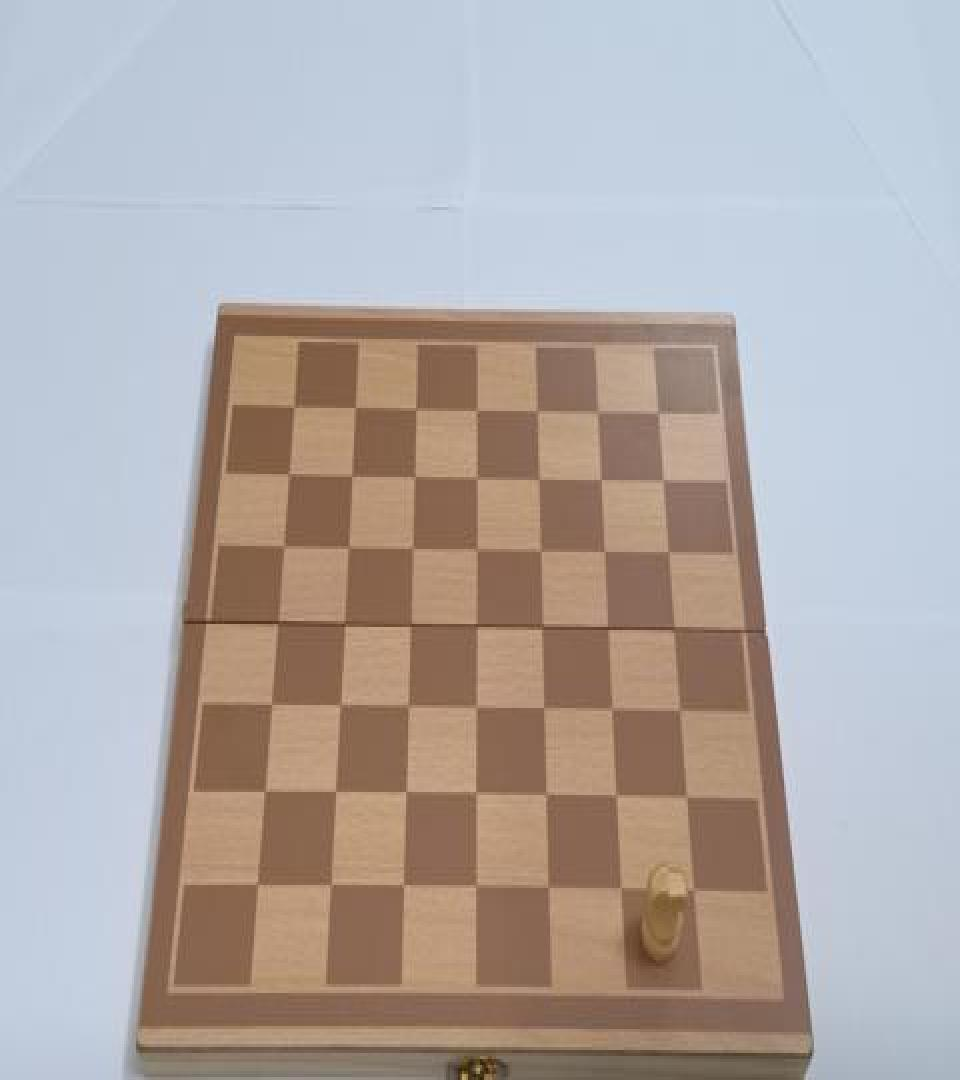xcorner: (651, 397, 671, 428), (656, 466, 676, 497), (282, 386, 302, 416), (277, 454, 297, 484), (271, 528, 291, 558), (266, 606, 286, 636), (253, 777, 273, 807), (245, 870, 265, 900), (344, 387, 364, 417), (341, 456, 361, 486), (329, 690, 349, 720), (406, 388, 426, 418), (404, 458, 424, 488), (402, 531, 422, 561), (400, 609, 420, 639), (398, 692, 418, 722), (396, 780, 416, 810), (394, 873, 414, 903), (467, 392, 487, 422), (467, 460, 487, 490), (467, 534, 487, 564), (468, 693, 488, 723), (468, 782, 488, 812), (468, 874, 488, 904), (529, 393, 549, 423), (530, 462, 550, 492), (534, 612, 554, 642), (536, 694, 556, 724), (539, 783, 559, 813), (541, 876, 561, 906), (590, 394, 610, 424), (593, 464, 613, 494), (597, 537, 617, 567), (601, 615, 621, 645), (605, 696, 625, 726), (661, 538, 681, 568), (674, 699, 694, 729), (680, 786, 700, 816), (687, 879, 707, 909), (259, 689, 279, 718), (337, 530, 357, 559), (333, 608, 353, 637), (324, 779, 344, 808), (320, 872, 340, 901), (468, 611, 488, 640), (532, 536, 552, 565), (610, 785, 630, 814), (614, 878, 634, 907), (667, 617, 687, 646)
